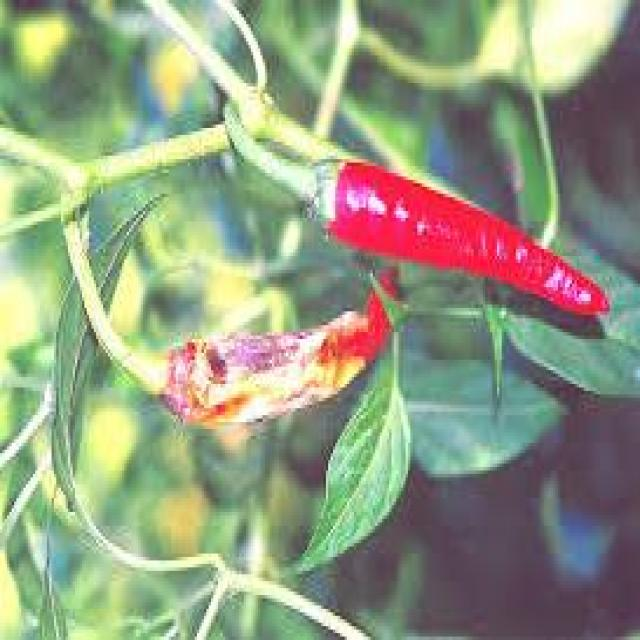Moko: (286, 129, 616, 323), (162, 289, 394, 427)
